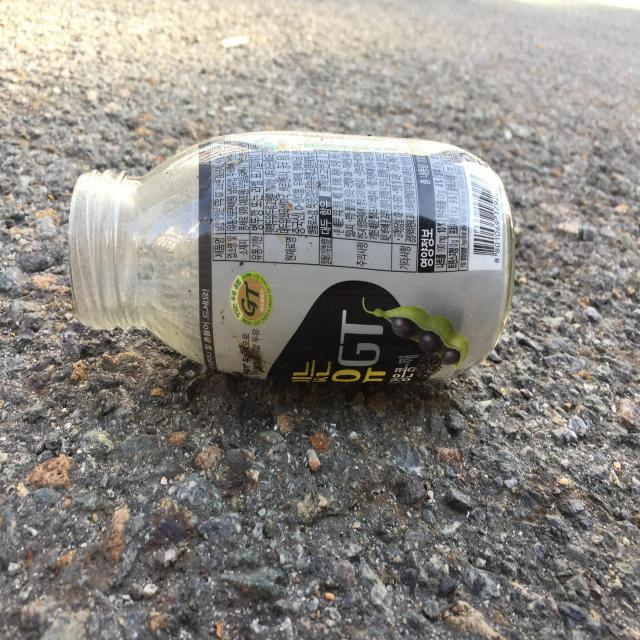glass: (68, 131, 515, 386)
